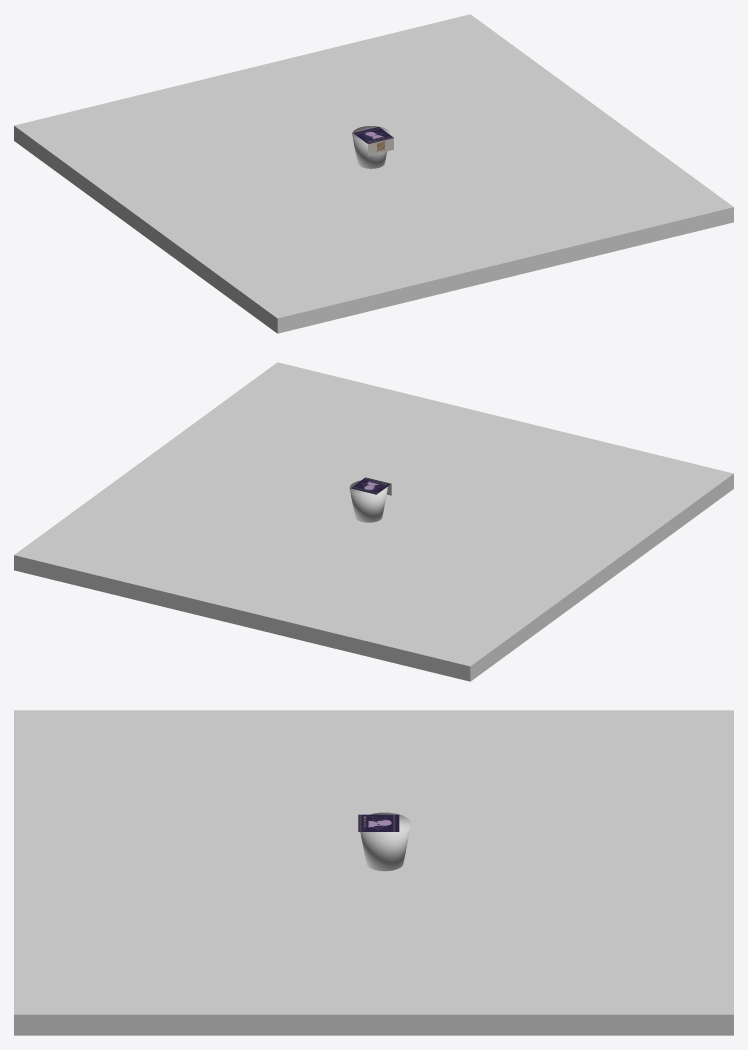
Rendered from mask.glb.
3 views of the same model, one above another, from view 1: azimuth 30°, elevation 25°; view 2: azimuth 150°, elevation 25°; view 3: azimuth 270°, elevation 25° (orthographic). The views are drawn at different scales.
Visible parts, largest first — view 1: Cylinder; view 2: Cylinder; view 3: Cylinder.
Part boxes in pixels (<box>): Cylinder: <box>14,14,733,333</box>; Cylinder: <box>14,362,733,681</box>; Cylinder: <box>14,710,733,1035</box>.
Size of the model in its own units: 32.87 by 3.07 by 32.87.
Materials: 2 (1 with a texture image).
